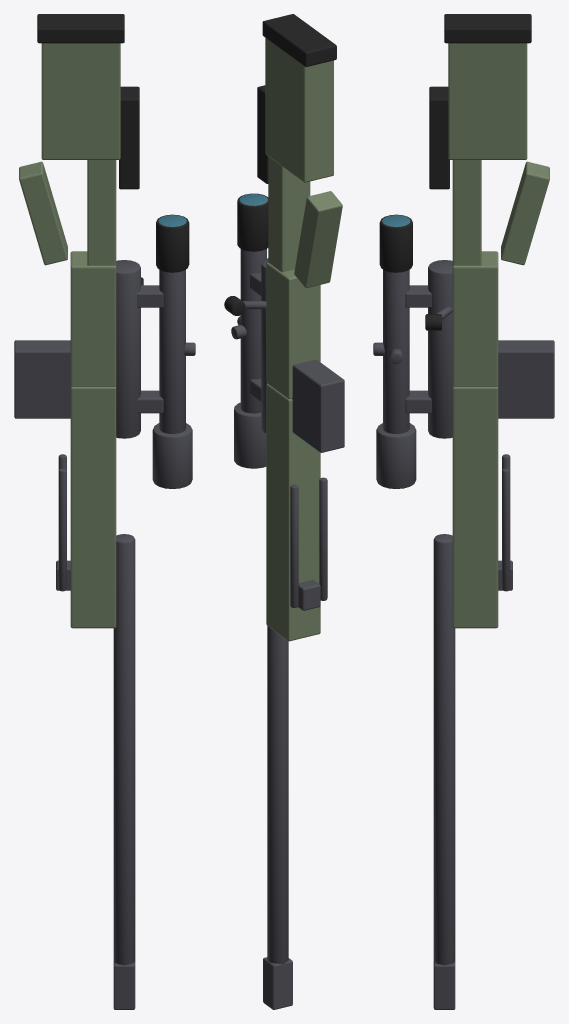
File: sniper.glb
3 views of the same model, side by side, from view 1: azimuth 90°, elevation 25°; view 2: azimuth 210°, elevation 25°; view 3: azimuth 270°, elevation 25° (orthographic).
Parts seen in each view (by area): view 1: sniper; view 2: sniper; view 3: sniper.
Boxes of the visible parts, left/top/right/bottom form: sniper: left=14, top=14, right=195, bottom=1009; sniper: left=224, top=14, right=344, bottom=1009; sniper: left=373, top=14, right=554, bottom=1009.
Size of the model in its own units: 0.087 by 1.3 by 0.2175.
